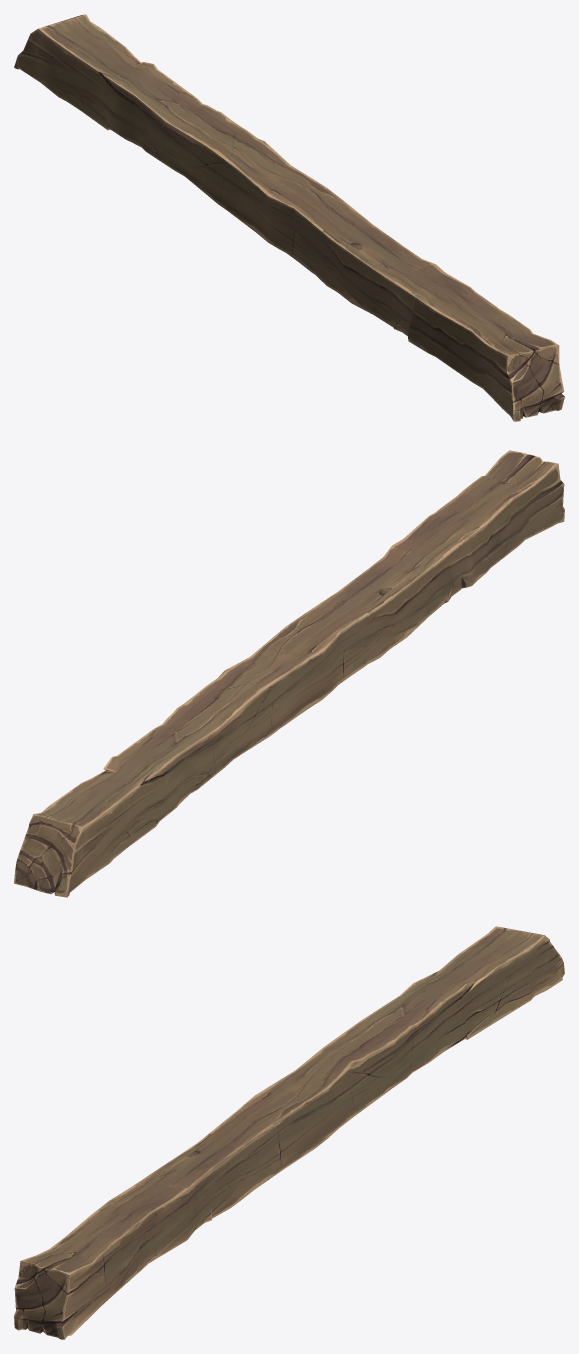
The model's file is balk_wood_long.fbx.
The picture shows the model from 3 angles, top to bottom: view 1: azimuth 30°, elevation 25°; view 2: azimuth 150°, elevation 25°; view 3: azimuth 330°, elevation 25°; orthographic projection. The views are drawn at different scales.
Visible parts, largest first — view 1: pillars.1_1; view 2: pillars.1_1; view 3: pillars.1_1.
Part boxes in pixels (x1,y1,x2,y2): pillars.1_1: (14,14,564,421); pillars.1_1: (14,450,564,897); pillars.1_1: (14,926,564,1339).
Size of the model in its own units: 0.3368 by 0.3706 by 4.92.
